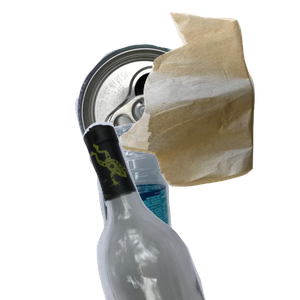glass: (81, 120, 300, 300)
metal: (73, 42, 277, 212)
plastic: (94, 120, 267, 300)
trash: (114, 10, 300, 189)
